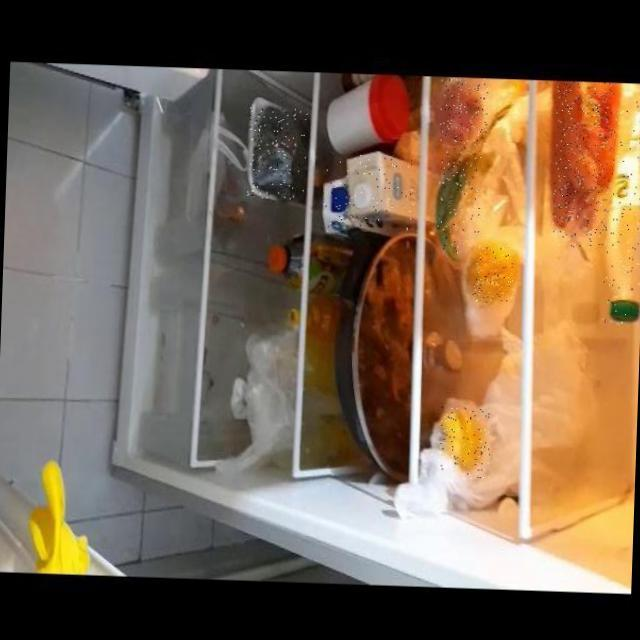Zanahoria: (550, 80, 612, 248)
